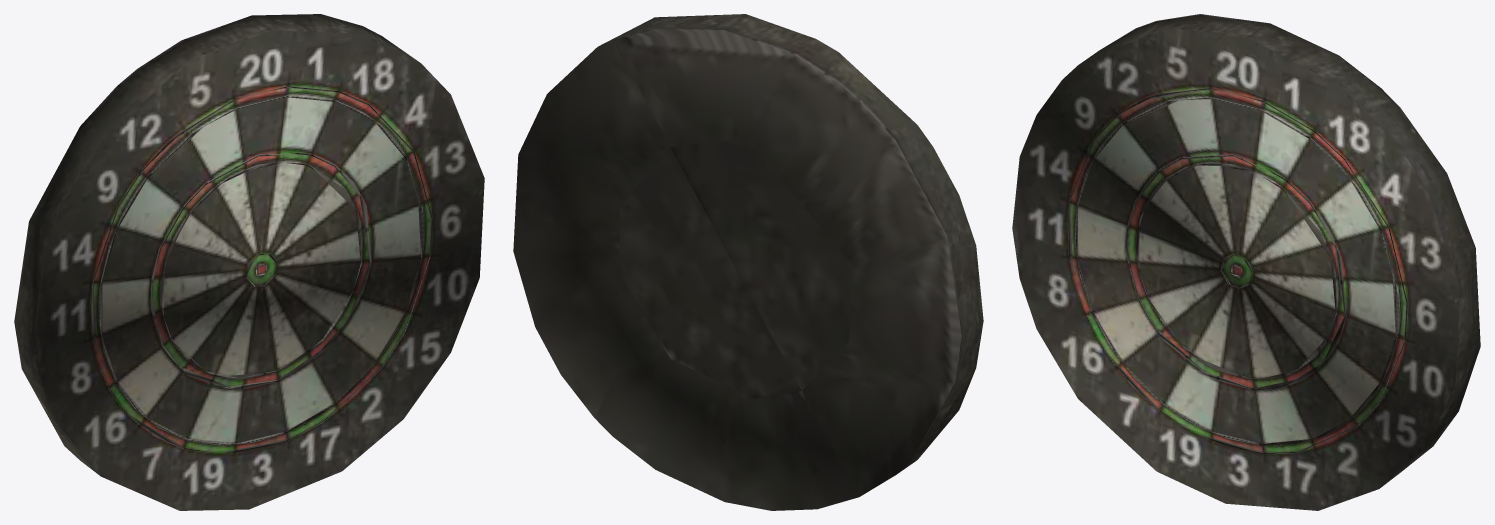
The model's file is dartboard.glb.
3 views of the same model, side by side, from view 1: azimuth 30°, elevation 25°; view 2: azimuth 150°, elevation 25°; view 3: azimuth 330°, elevation 25° (orthographic).
Visible parts, largest first — view 1: dartboard; view 2: dartboard; view 3: dartboard.
Boxes of the visible parts, <box> form: dartboard: <box>14,14,484,510</box>; dartboard: <box>513,14,983,510</box>; dartboard: <box>1012,14,1480,510</box>.
Size of the model in its own units: 0.4482 by 0.4507 by 0.0391.
1 material, 1 textured.
